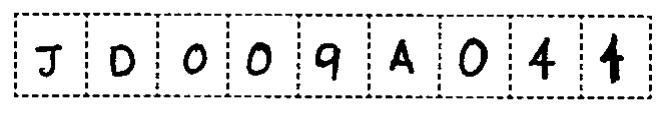0: (451, 32, 494, 82), (173, 37, 216, 81), (240, 36, 279, 83)
4: (594, 32, 633, 84), (522, 35, 564, 82)
9: (309, 35, 345, 82)
A: (384, 33, 420, 78)
D: (105, 40, 139, 80)
J: (29, 35, 69, 79)
